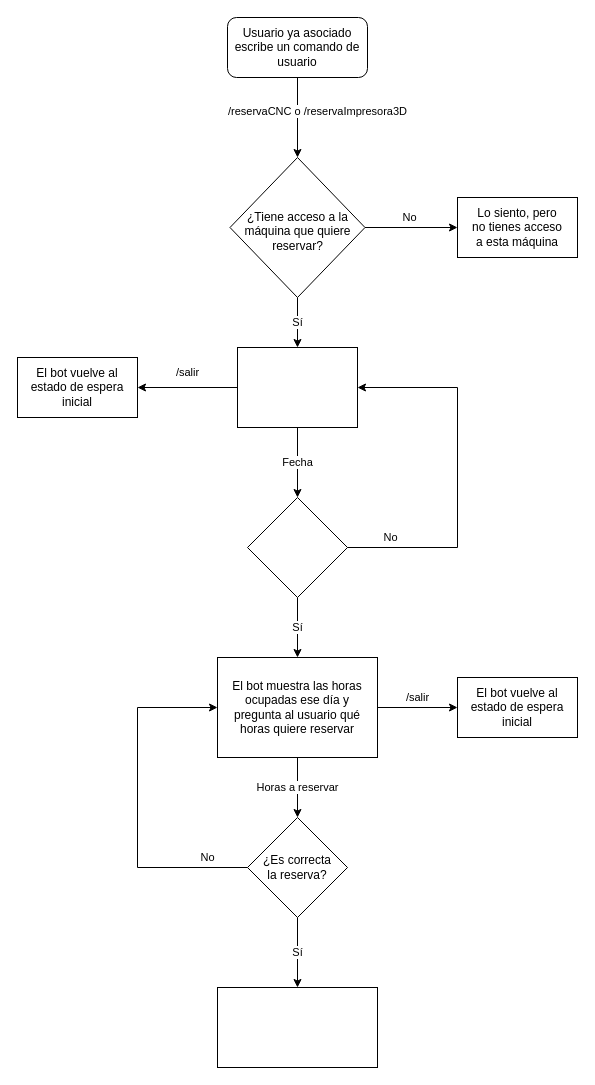
Some shapes in this 595 by 1085 pixel diagram are drawn without their labels. Here are the shapes that lost their labels. From the top down, the centre of each, then its label:
(297,387): El bot pregunta al usuario qué día quiere reservar
(297,547): ¿Es correcta la fecha?
(297,1027): La reserva se introduce en la DB y se confirma que la reserva se ha creado
